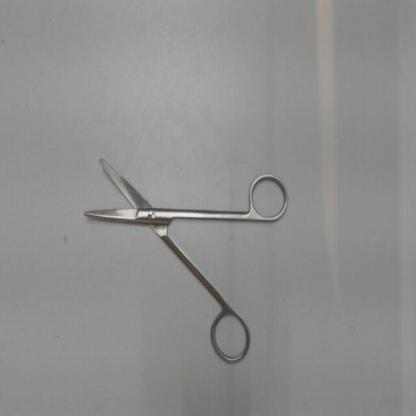Curved Mayo Scissors: (76, 154, 294, 370)
